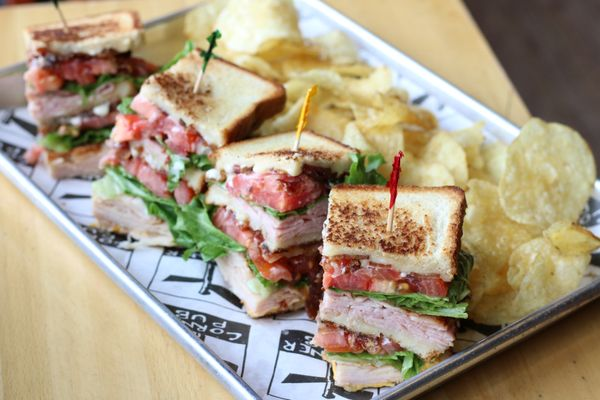soup: (90, 35, 287, 242), (314, 180, 471, 390), (203, 128, 371, 319), (23, 9, 158, 178)
